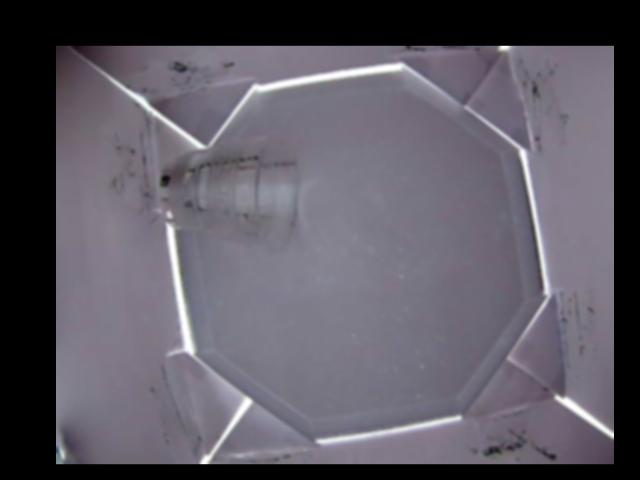Cup: (155, 137, 300, 255)
